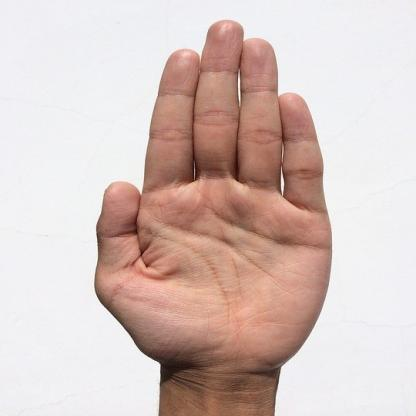palm: (86, 14, 339, 367)
